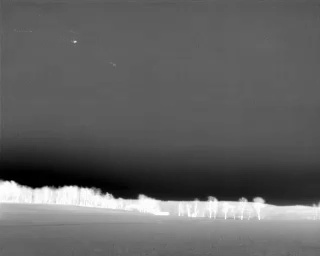BIRD: (71, 37, 79, 46)
